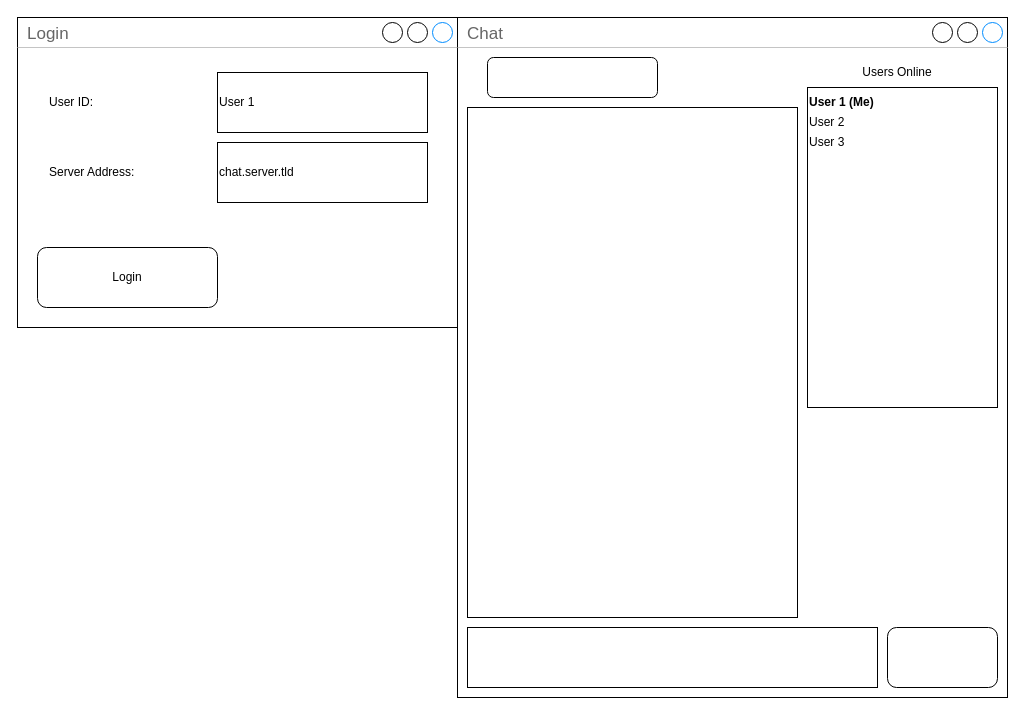
The diagram is 1025 pixels wide and 715 high, and some of its shapes have lost their labels. The centre of each missing label's shape, as x and y in pixels:
Disconnect: (572,77)
Send: (942,657)
User 1: the sky is falling!: (632,362)
